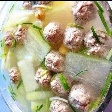dongguawanzi: (0, 0, 112, 112)
